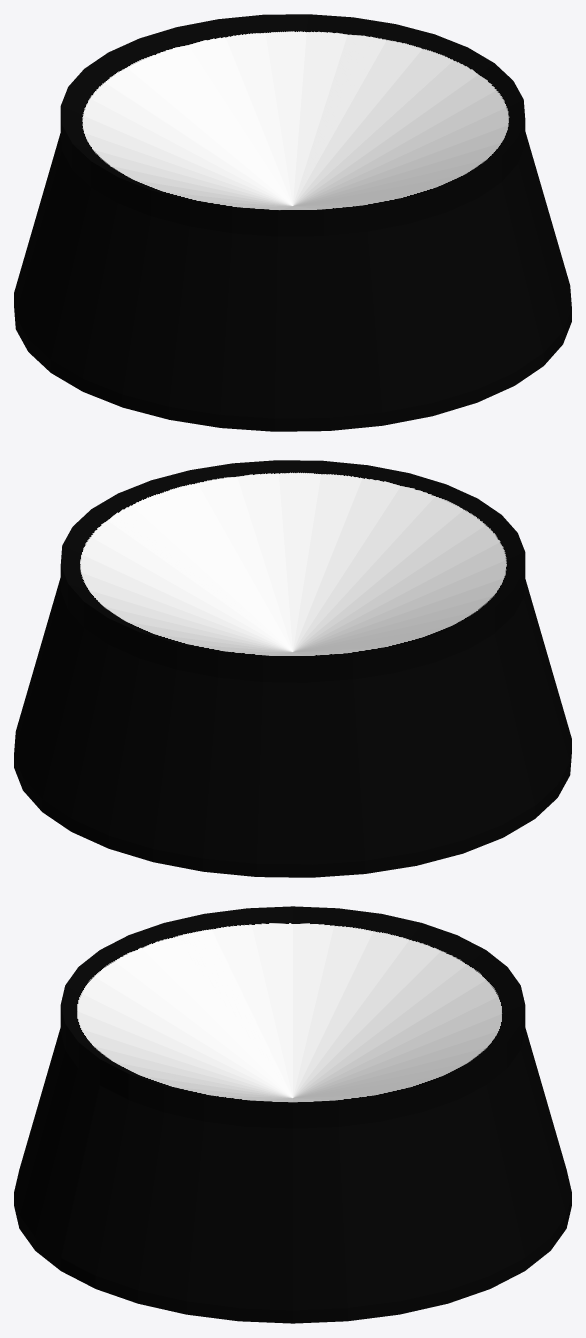
Rendered from king.fbx.
3 renders of one model, top to bottom at view 1: azimuth 30°, elevation 25°; view 2: azimuth 150°, elevation 25°; view 3: azimuth 270°, elevation 25°, orthographic.
Parts seen in each view (by area): view 1: Cone; view 2: Cone; view 3: Cone.
Boxes of the visible parts, x1,y1,x2,y2 form: Cone: (14, 14, 571, 431); Cone: (14, 460, 571, 877); Cone: (14, 906, 571, 1323).
Size of the model in its own units: 240 by 95.55 by 240.
Materials: 1 (1 with a texture image).
